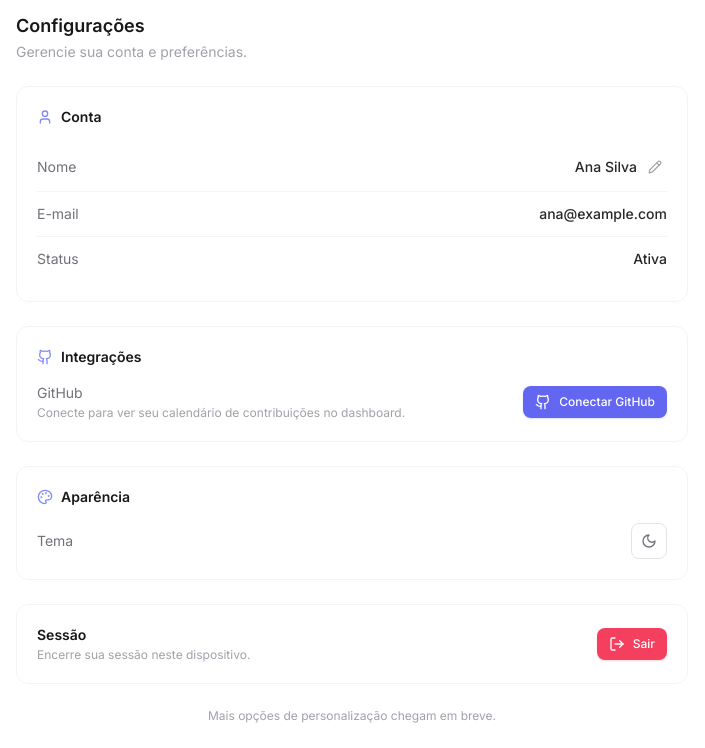
Test case: SettingsPage — edição de nome › clicar no lápis abre o input com o nome atual preenchido
The image size is (705, 748).
Click the button named "Editar nome".
click(655, 167)  # box top-left (643, 155), bottom-right (667, 179)
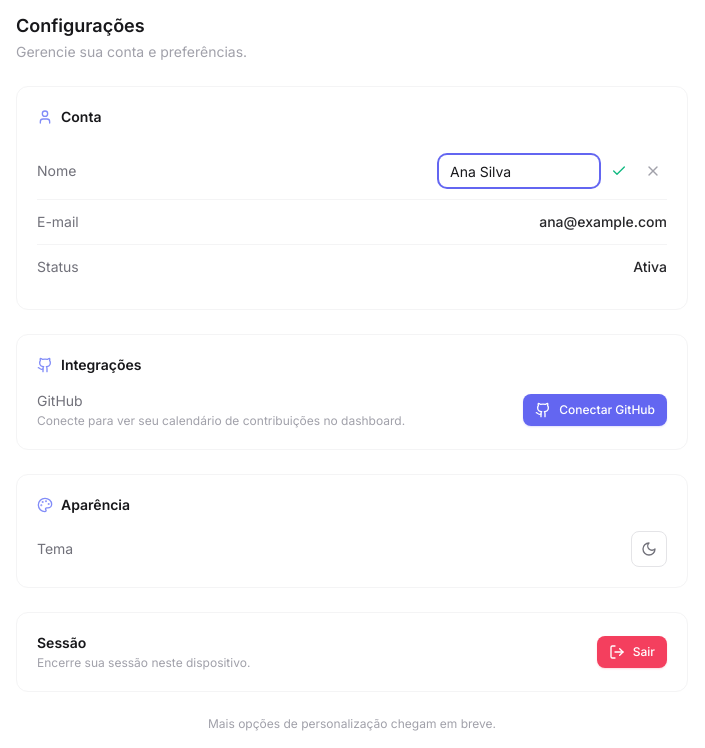
Result: the field holds "Ana Silva" at top-left (439, 155), bottom-right (599, 187)
